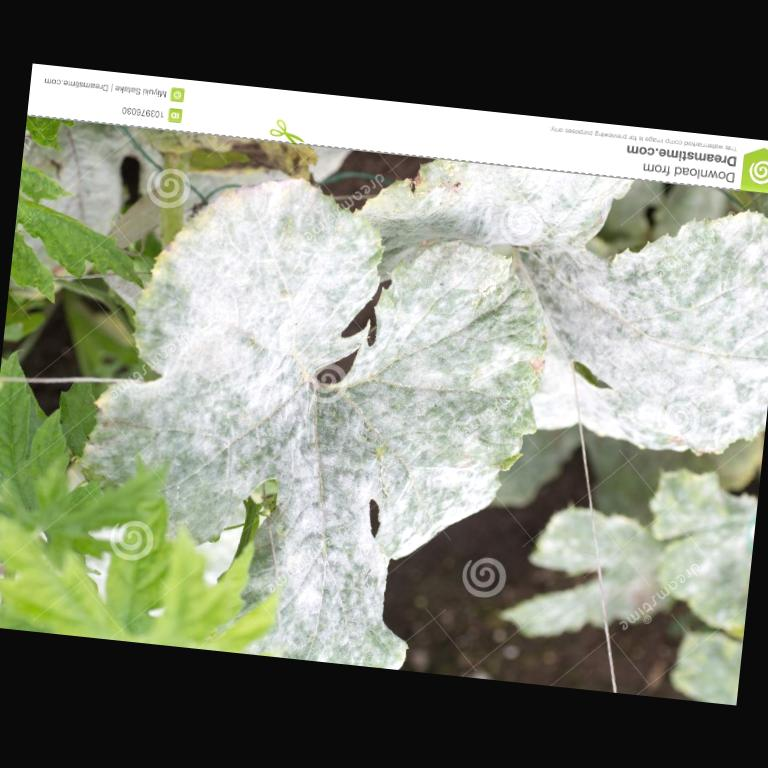powdery-mildew: (584, 263, 758, 388), (189, 270, 308, 436), (374, 284, 512, 412)
